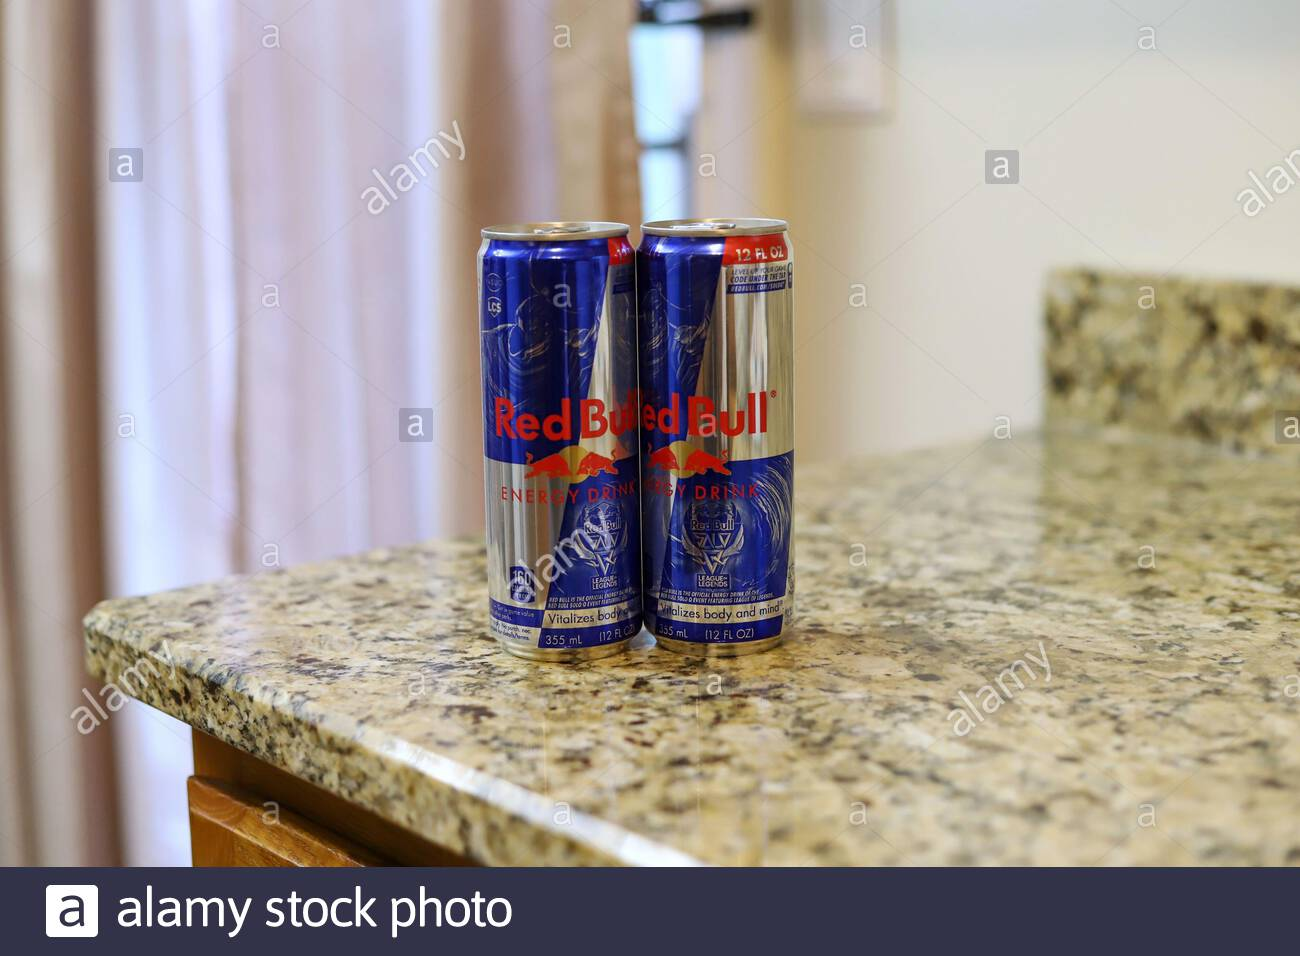redbull: (473, 219, 641, 663), (639, 219, 801, 663)
